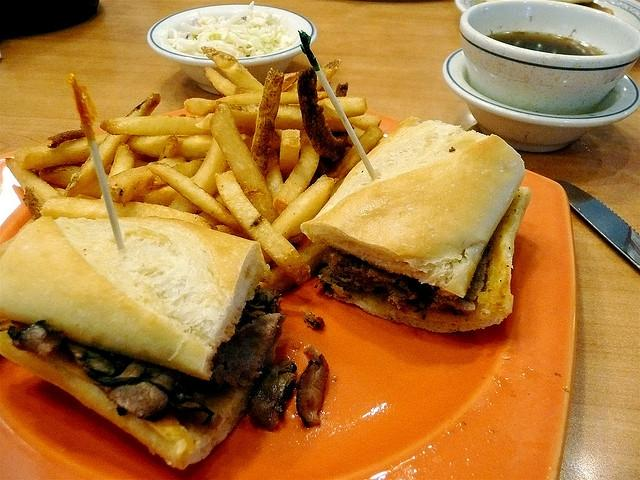mushroom: (250, 360, 298, 430), (109, 372, 174, 420), (296, 354, 329, 424), (98, 360, 150, 388), (22, 326, 66, 357), (466, 252, 488, 300), (442, 295, 476, 313), (191, 412, 222, 428), (367, 269, 383, 278)
